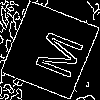M: (25, 25, 85, 82)
